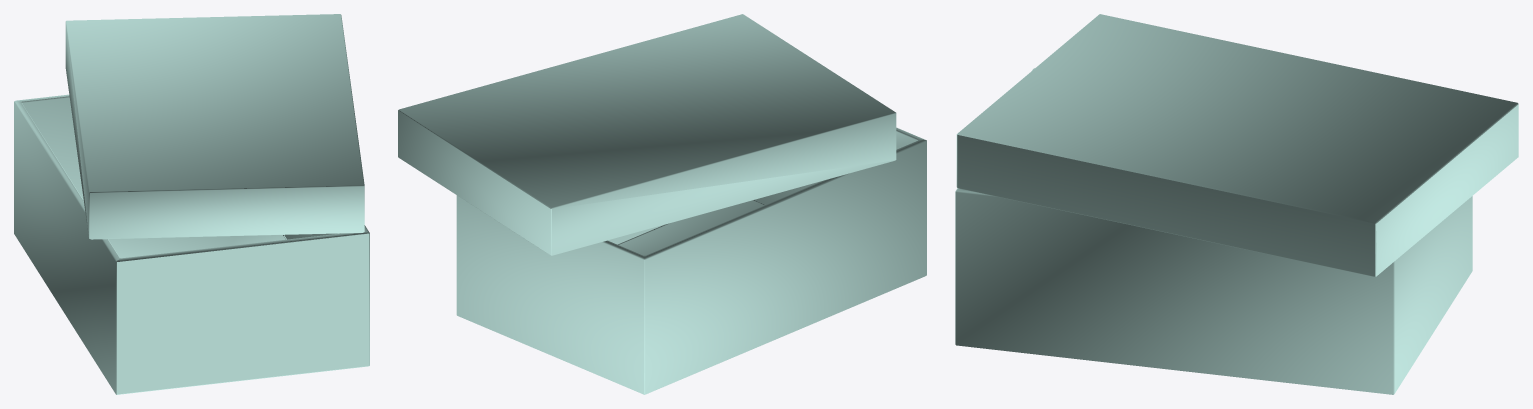
Rendered from 5_material27_ScatolaScarpeAperta.fbx.
3 renders of one model, left to right at view 1: azimuth 30°, elevation 25°; view 2: azimuth 150°, elevation 25°; view 3: azimuth 270°, elevation 25°, orthographic. The views are drawn at different scales.
Visible parts, largest first — view 1: 5_material27_1_0_0.003_scatolaScarpeAperta; view 2: 5_material27_1_0_0.003_scatolaScarpeAperta; view 3: 5_material27_1_0_0.003_scatolaScarpeAperta.
Part boxes in pixels (bbox=[...]): 5_material27_1_0_0.003_scatolaScarpeAperta: bbox=[14, 14, 369, 394]; 5_material27_1_0_0.003_scatolaScarpeAperta: bbox=[398, 14, 926, 394]; 5_material27_1_0_0.003_scatolaScarpeAperta: bbox=[955, 14, 1518, 394].
Bounding box in the file's own units: 231 × 107 × 261.
